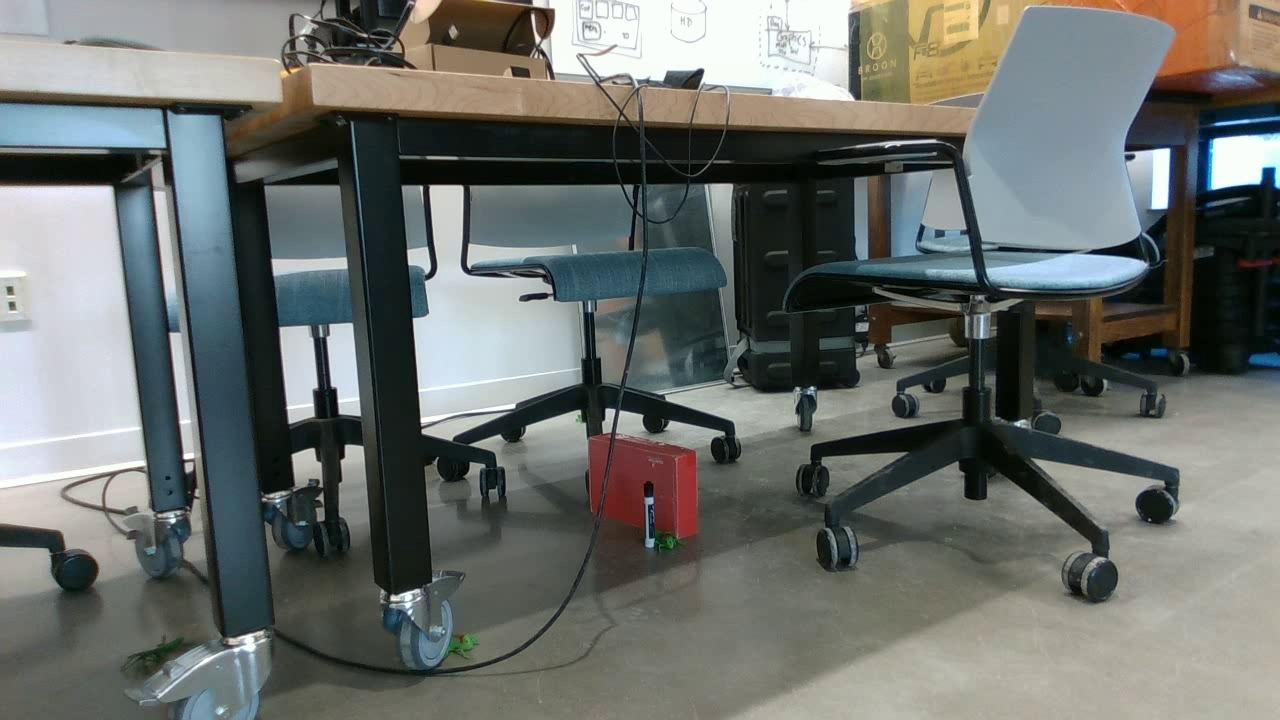grasshopper: (441, 628, 480, 659), (656, 532, 685, 555)
